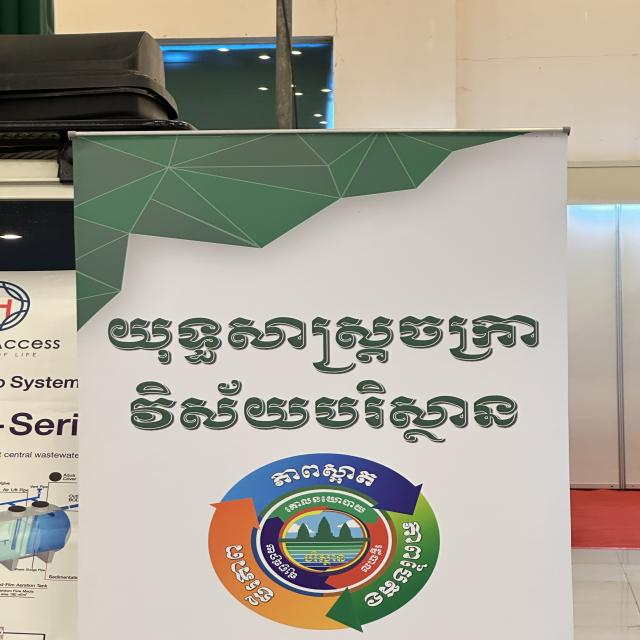Yolov11_80vkh: (105, 374, 534, 449), (91, 302, 549, 366), (352, 508, 433, 624), (199, 524, 276, 610), (252, 454, 399, 494)
